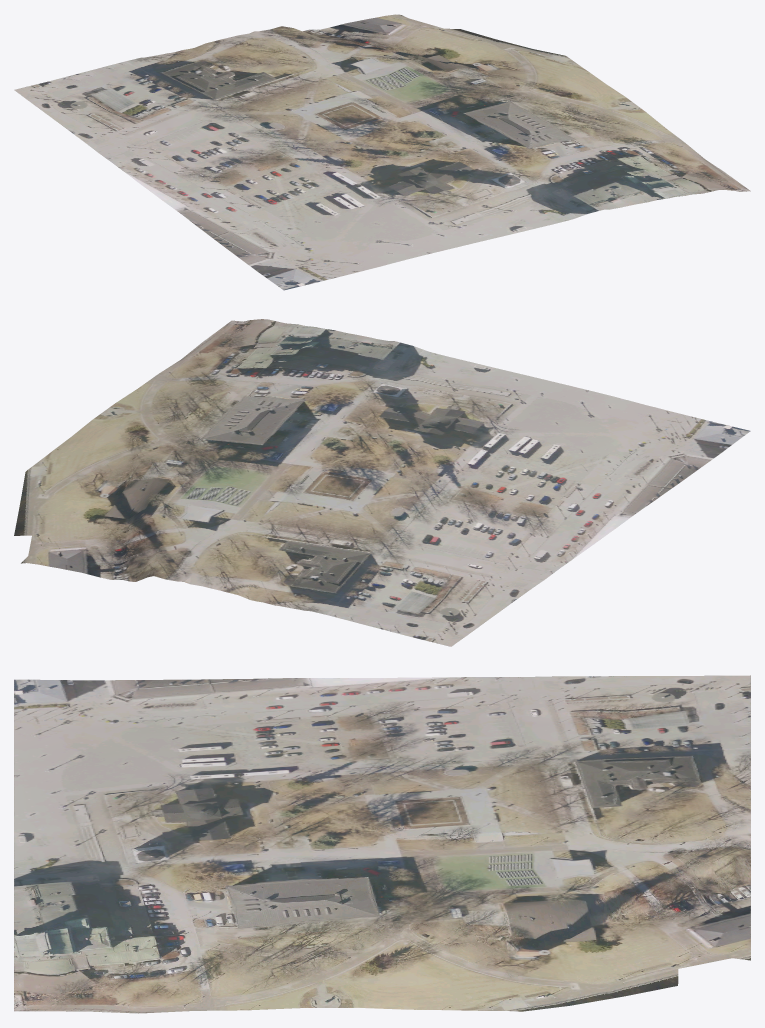
The model's file is CM_Terrain_24487182_6821022.fbx.
The picture shows the model from 3 angles, top to bottom: view 1: azimuth 30°, elevation 25°; view 2: azimuth 150°, elevation 25°; view 3: azimuth 270°, elevation 25°; orthographic projection. The views are drawn at different scales.
Parts seen in each view (by area): view 1: CM_Terrain_24487182_6821022_LOD0; view 2: CM_Terrain_24487182_6821022_LOD0; view 3: CM_Terrain_24487182_6821022_LOD0.
Boxes of the visible parts, x1,y1,x2,y2 form: CM_Terrain_24487182_6821022_LOD0: (14, 14, 750, 290); CM_Terrain_24487182_6821022_LOD0: (14, 319, 750, 646); CM_Terrain_24487182_6821022_LOD0: (14, 675, 750, 1013).
Size of what is drawn, in the model's own units: 205 by 11.96 by 205.
